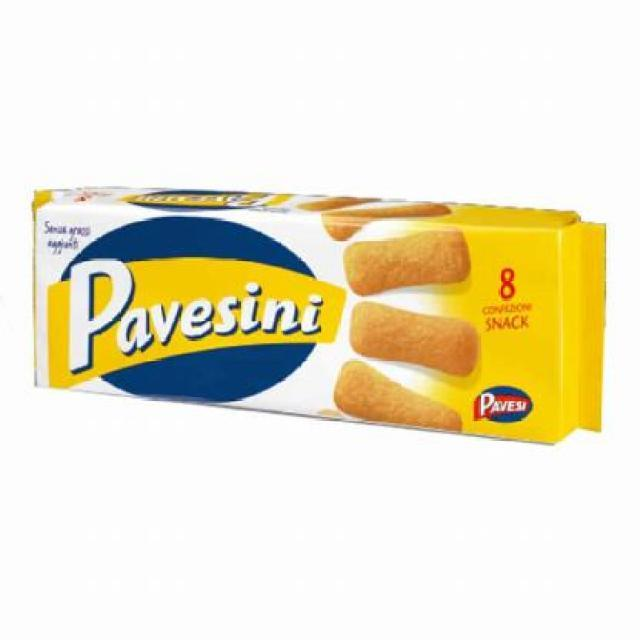Merendine: (27, 181, 605, 450)
